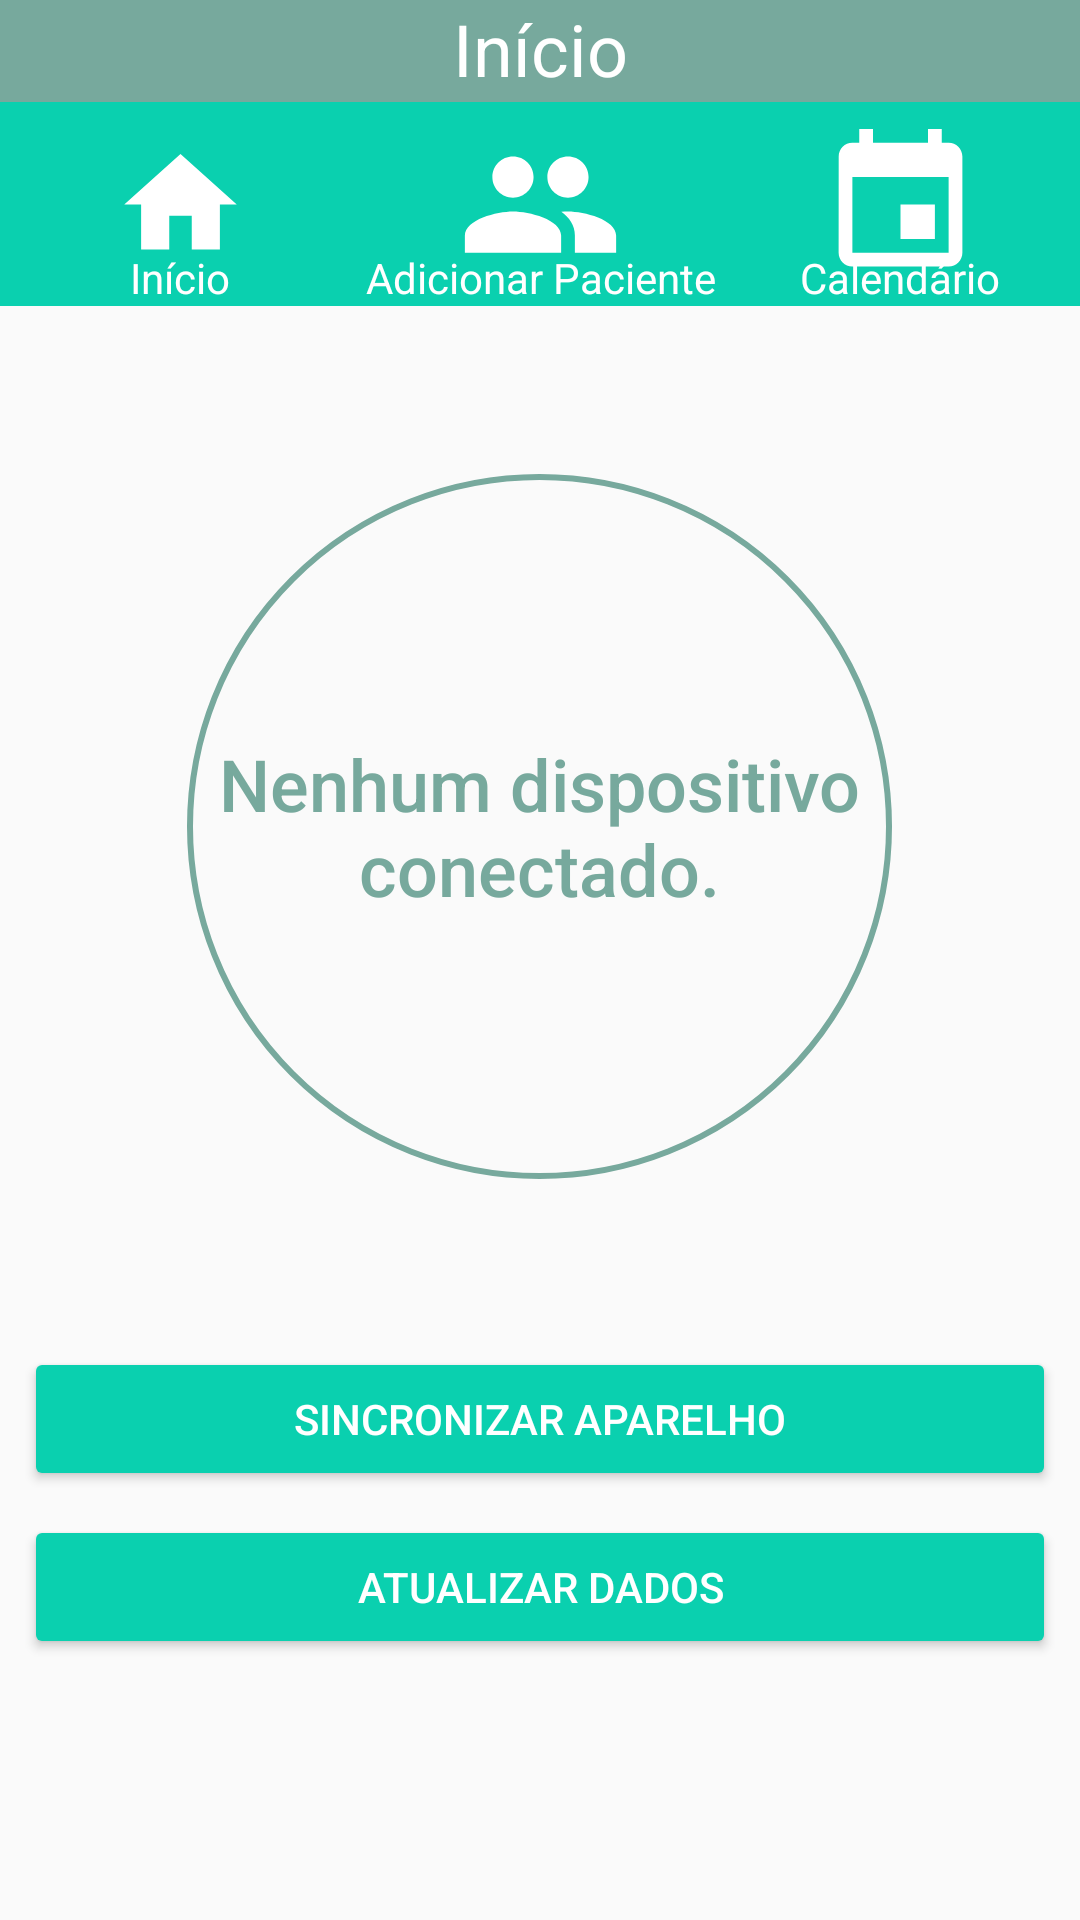

Screen size 1080 × 1920. Icon name, then its center in pixels as (x,y):
Program a hour: (900,204)
